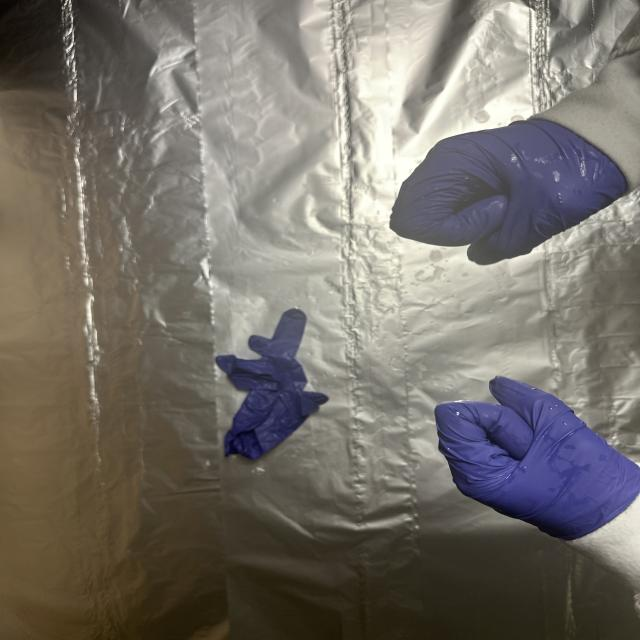gloves_contaminated: (391, 120, 627, 264), (435, 376, 640, 540)
